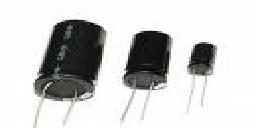Electrolytic-Capacitor: (33, 20, 107, 125), (119, 28, 172, 124), (183, 42, 219, 117)
